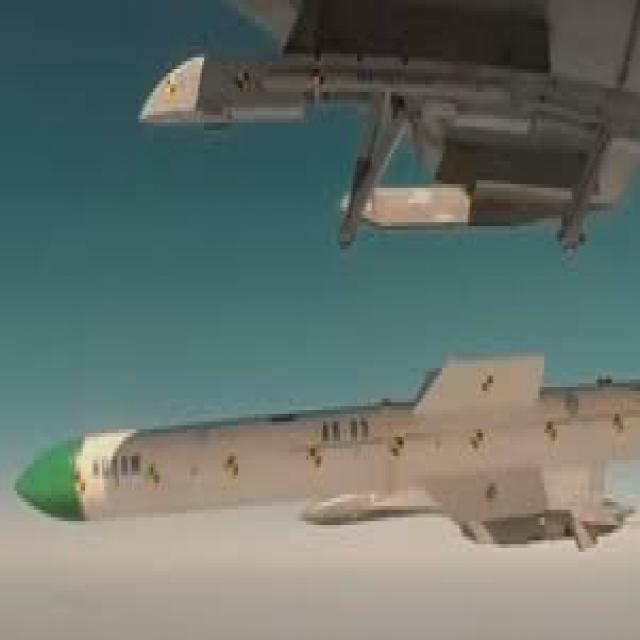missile: (16, 360, 628, 557)
